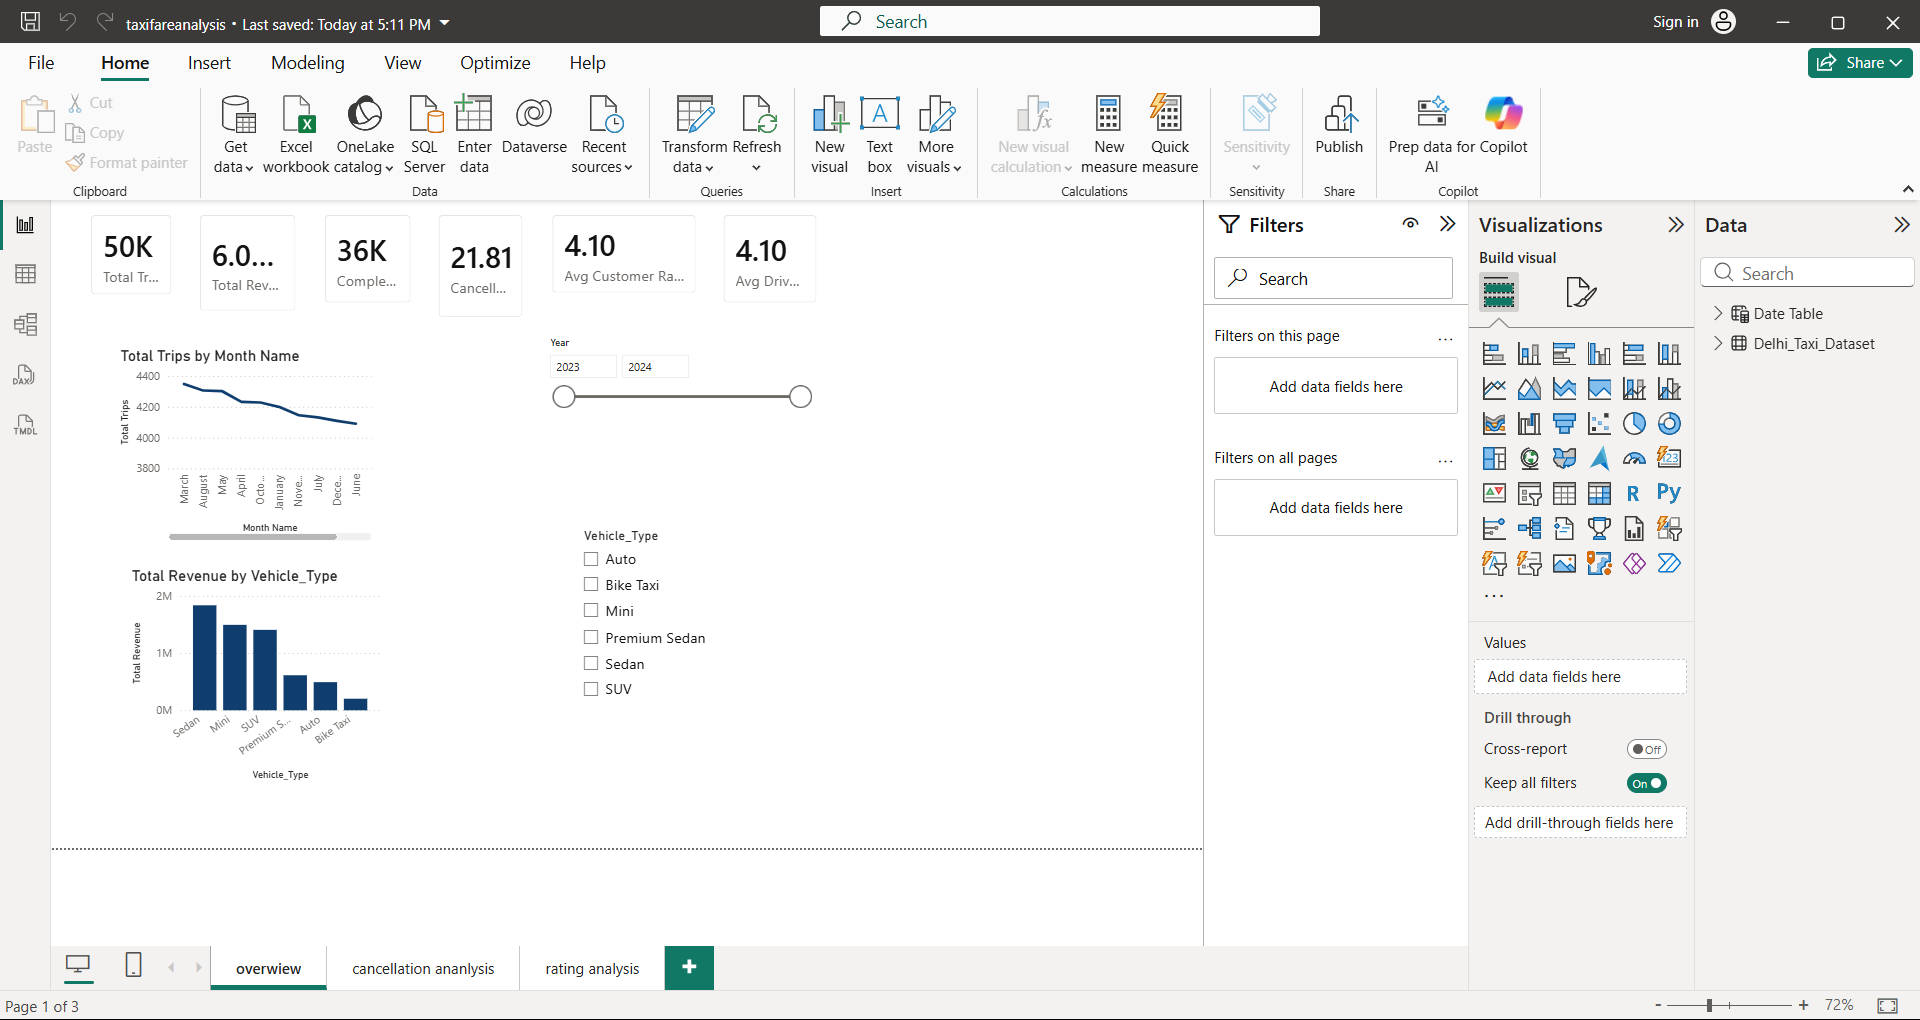

Layout of this report page (visuals, bound fields, positions):
{"tool":"powerbi","page":{"name":"overwiew","canvas":[1280,720],"ordinal":0},"visuals":[{"type":"cardVisual","fields":{"Data":["Date Table.Total Trips"]},"box":[27.8,0,123.6,122.2],"z":0},{"type":"cardVisual","fields":{"Data":["Date Table.Total Revenue"]},"box":[149.1,0,140.2,140.2],"z":1},{"type":"cardVisual","fields":{"Data":["Date Table.Completed Trips"]},"box":[287.2,0,129.1,131.9],"z":2},{"type":"cardVisual","fields":{"Data":["Date Table.Cancellation Rate"]},"box":[414.1,0,127.8,147.2],"z":3},{"type":"cardVisual","fields":{"Data":["Date Table.Avg Driver Rating"]},"box":[730.4,0,137.5,131.9],"z":4},{"type":"cardVisual","fields":{"Data":["Date Table.Avg Customer Rating"]},"box":[539.6,0,193,120.8],"z":5},{"type":"lineChart","fields":{"Category":["Date Table.Month Name"],"Y":["Date Table.Total Trips"]},"box":[72.2,162.5,288.8,220.8],"z":6},{"type":"clusteredColumnChart","fields":{"Category":["Delhi_Taxi_Dataset.Vehicle_Type"],"Y":["Date Table.Total Revenue"]},"box":[84.7,406.9,286.1,243],"z":7},{"type":"slicer","fields":{"Values":["Date Table.Year"]},"box":[541.6,147.2,312.4,127.8],"z":8},{"type":"slicer","fields":{"Values":["Delhi_Taxi_Dataset.Vehicle_Type"]},"box":[579,359.6,220.8,223.6],"z":9}]}

Visuals, with their boxes on the page's 1280x720 design canvas (x1, y1, x2, y2). These are canvas units, not pixel positions in the 1920x1020 screenshot, which may show the page scaled, cropped or inside an application window:
cardVisual - Date Table.Total Trips: [left=28, top=0, right=151, bottom=122]
cardVisual - Date Table.Total Revenue: [left=149, top=0, right=289, bottom=140]
cardVisual - Date Table.Completed Trips: [left=287, top=0, right=416, bottom=132]
cardVisual - Date Table.Cancellation Rate: [left=414, top=0, right=542, bottom=147]
cardVisual - Date Table.Avg Driver Rating: [left=730, top=0, right=868, bottom=132]
cardVisual - Date Table.Avg Customer Rating: [left=540, top=0, right=733, bottom=121]
lineChart - Date Table.Month Name x Date Table.Total Trips: [left=72, top=162, right=361, bottom=383]
clusteredColumnChart - Delhi_Taxi_Dataset.Vehicle_Type x Date Table.Total Revenue: [left=85, top=407, right=371, bottom=650]
slicer - Date Table.Year: [left=542, top=147, right=854, bottom=275]
slicer - Delhi_Taxi_Dataset.Vehicle_Type: [left=579, top=360, right=800, bottom=583]
